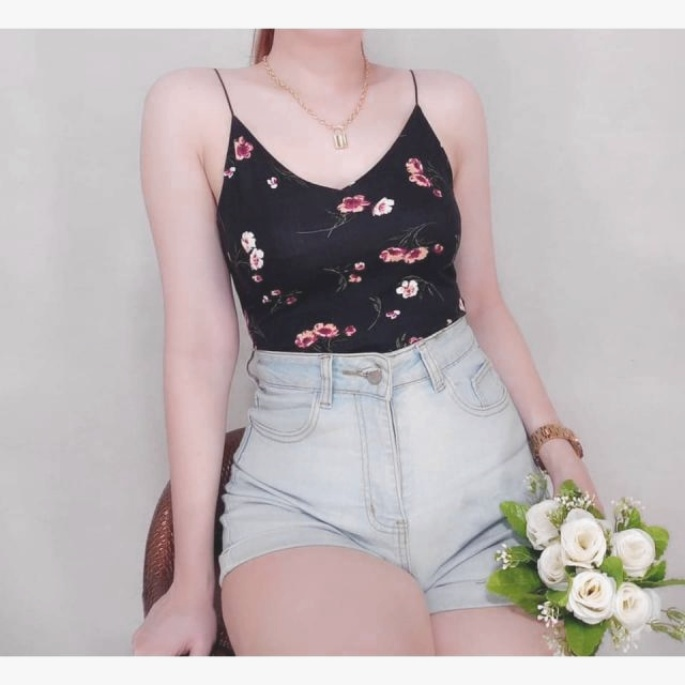Shorts: (218, 315, 554, 685)
Sleeveless: (136, 66, 223, 206), (395, 64, 491, 178)
low_neckline: (212, 60, 464, 355)
